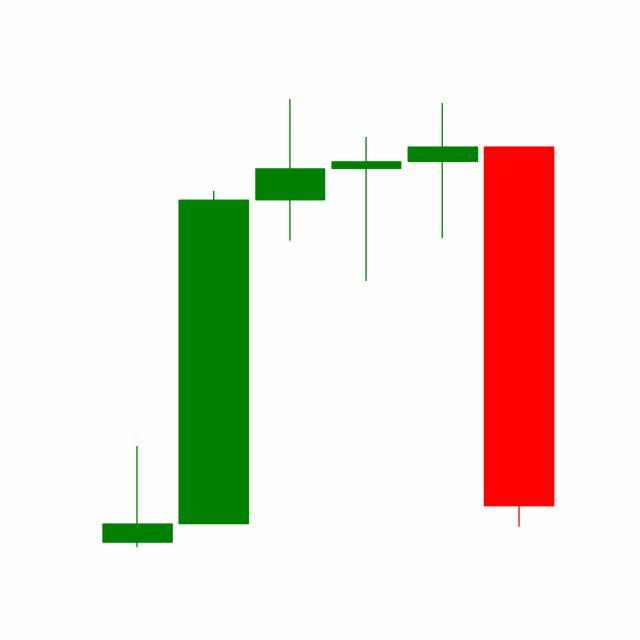Spinning Top: (404, 102, 482, 241)
